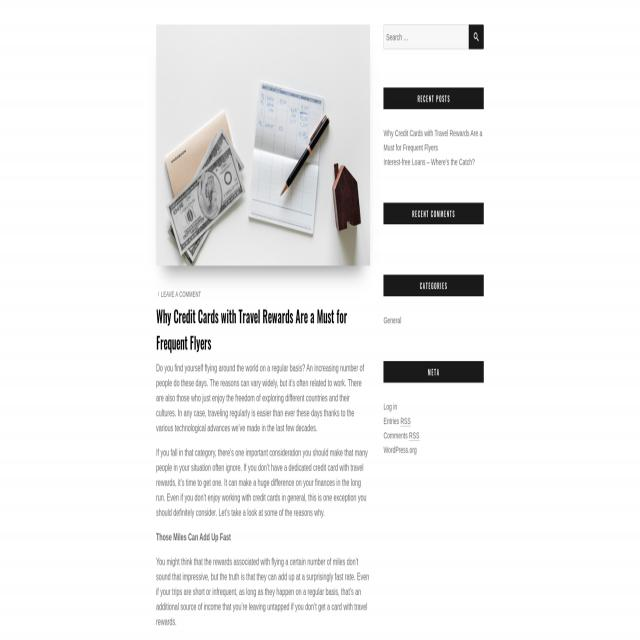button: (156, 25, 370, 266), (469, 25, 484, 49)
field: (383, 25, 469, 49)
